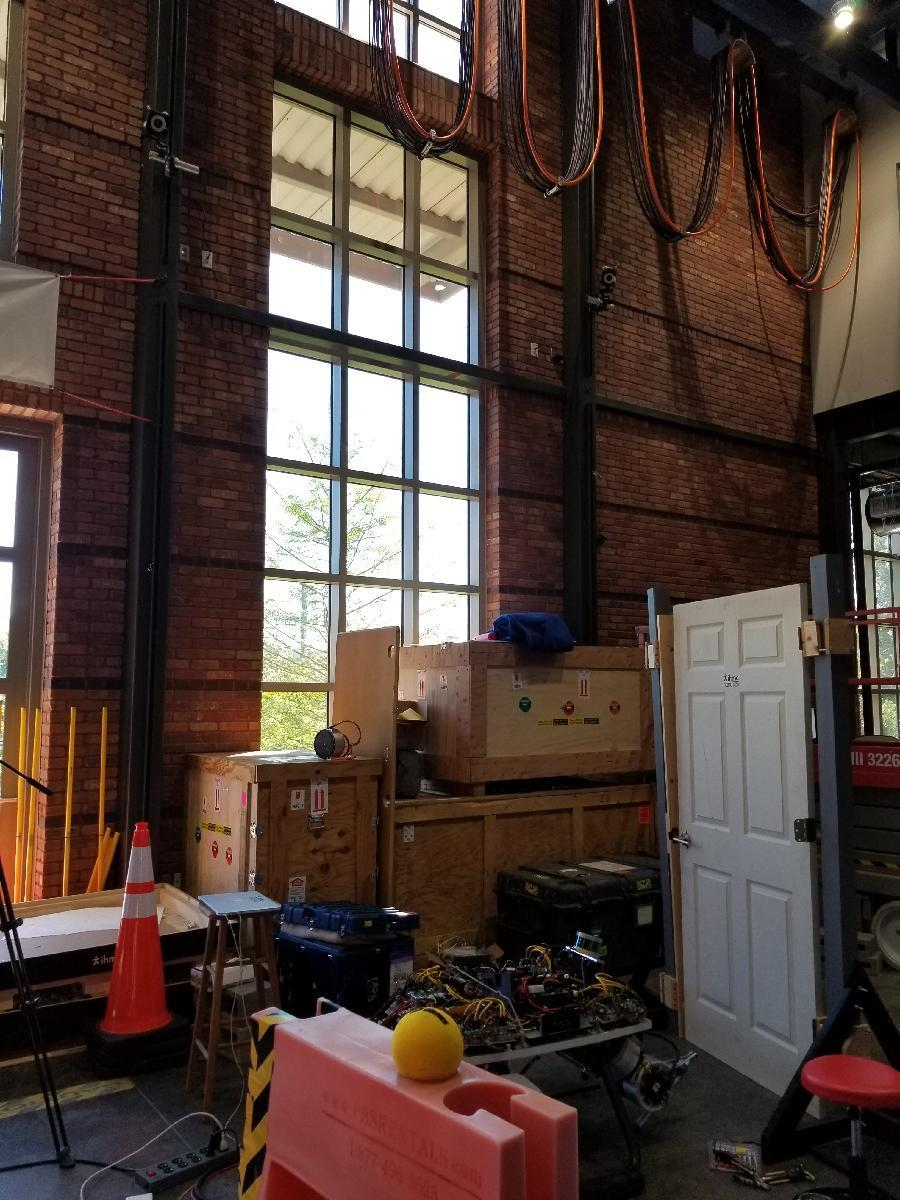door: (676, 593, 821, 1093)
